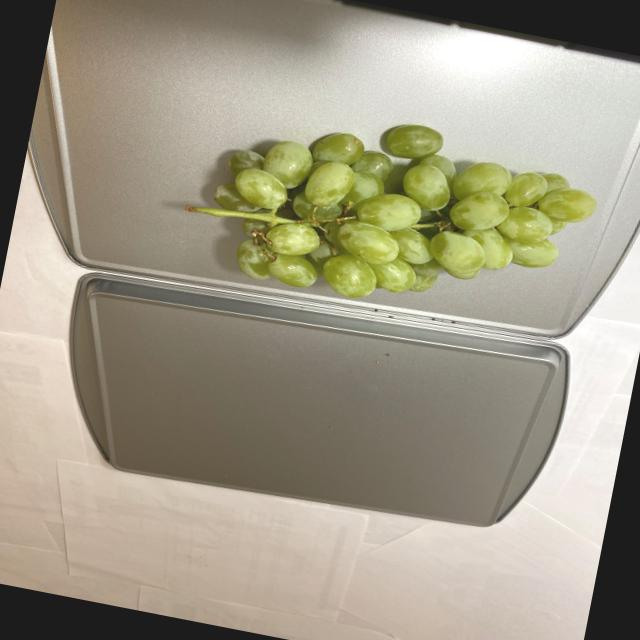grapes: (165, 82, 604, 342)
